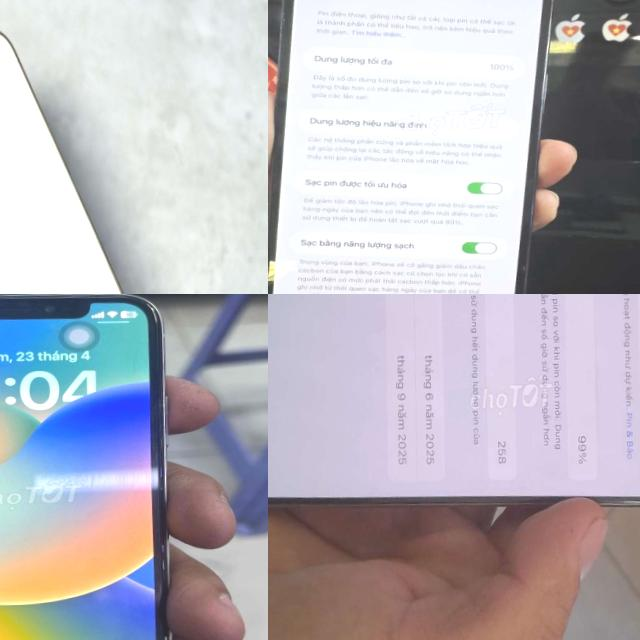gen_12_13: (268, 0, 570, 294), (0, 16, 193, 294)
gen_16: (268, 294, 640, 504)
gen_x_xs: (0, 294, 169, 640)
